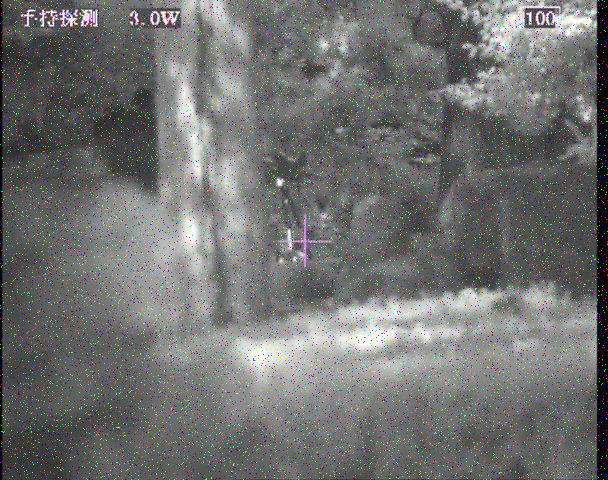my: (274, 177, 284, 187)
